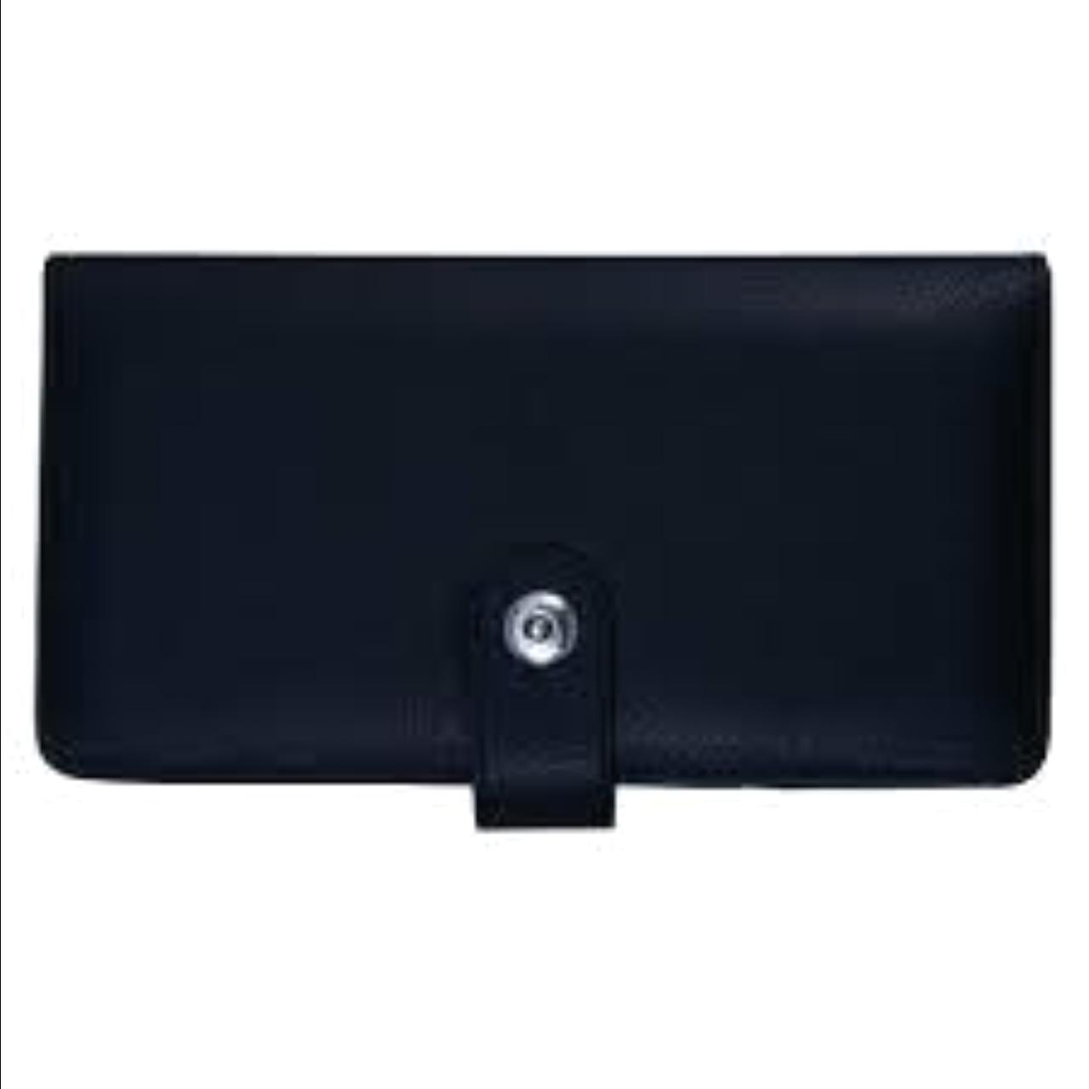wallet: (14, 223, 1059, 818)
